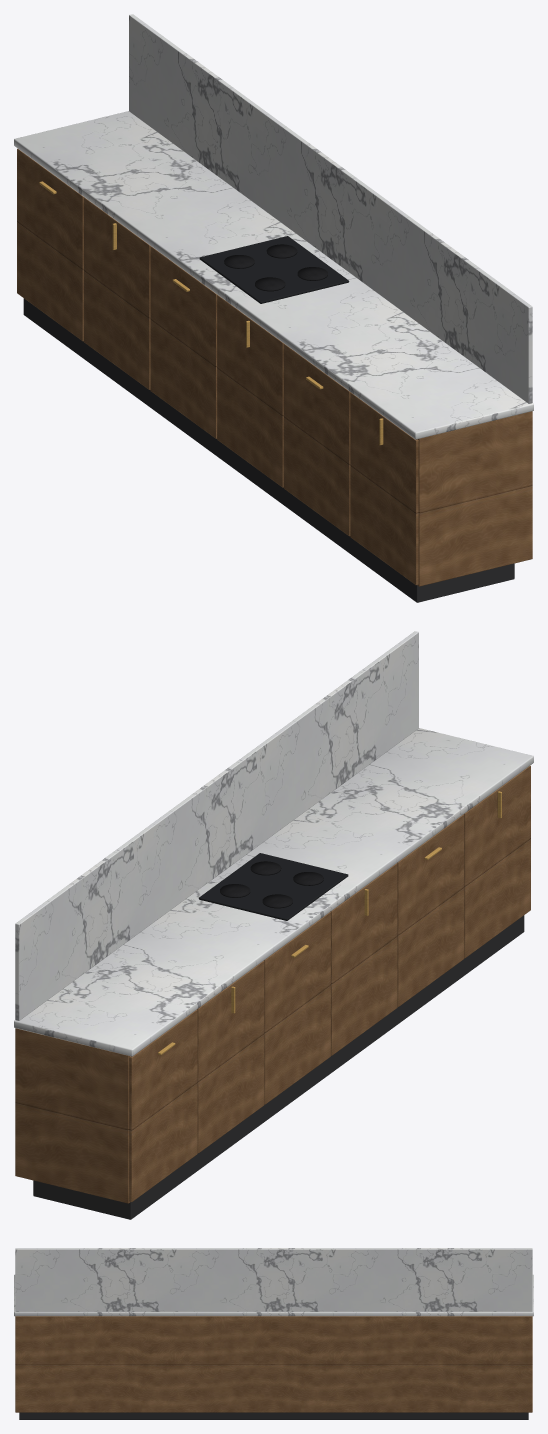
The model's file is kitchen_run_east.glb.
3 views of the same model, one above another, from view 1: azimuth 30°, elevation 25°; view 2: azimuth 150°, elevation 25°; view 3: azimuth 270°, elevation 25° (orthographic). The views are drawn at different scales.
Visible parts, largest first — view 1: kitchen_run_east; view 2: kitchen_run_east; view 3: kitchen_run_east.
Part boxes in pixels (box(x1,y1,x2,y2)): kitchen_run_east: box(14, 14, 533, 602); kitchen_run_east: box(14, 631, 533, 1219); kitchen_run_east: box(14, 1248, 533, 1419).
Bounding box in the file's own units: 0.679 × 1.46 × 3.92.
6 materials, 4 textured.
